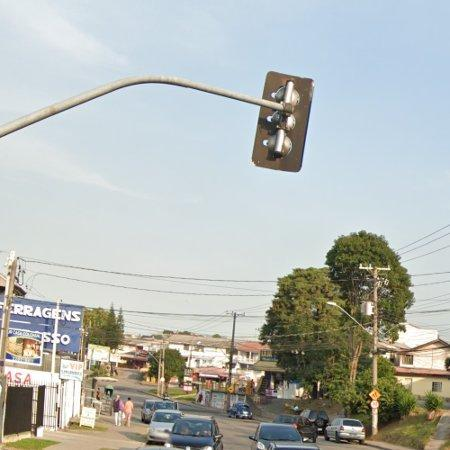traffic lights: (252, 71, 315, 176)
